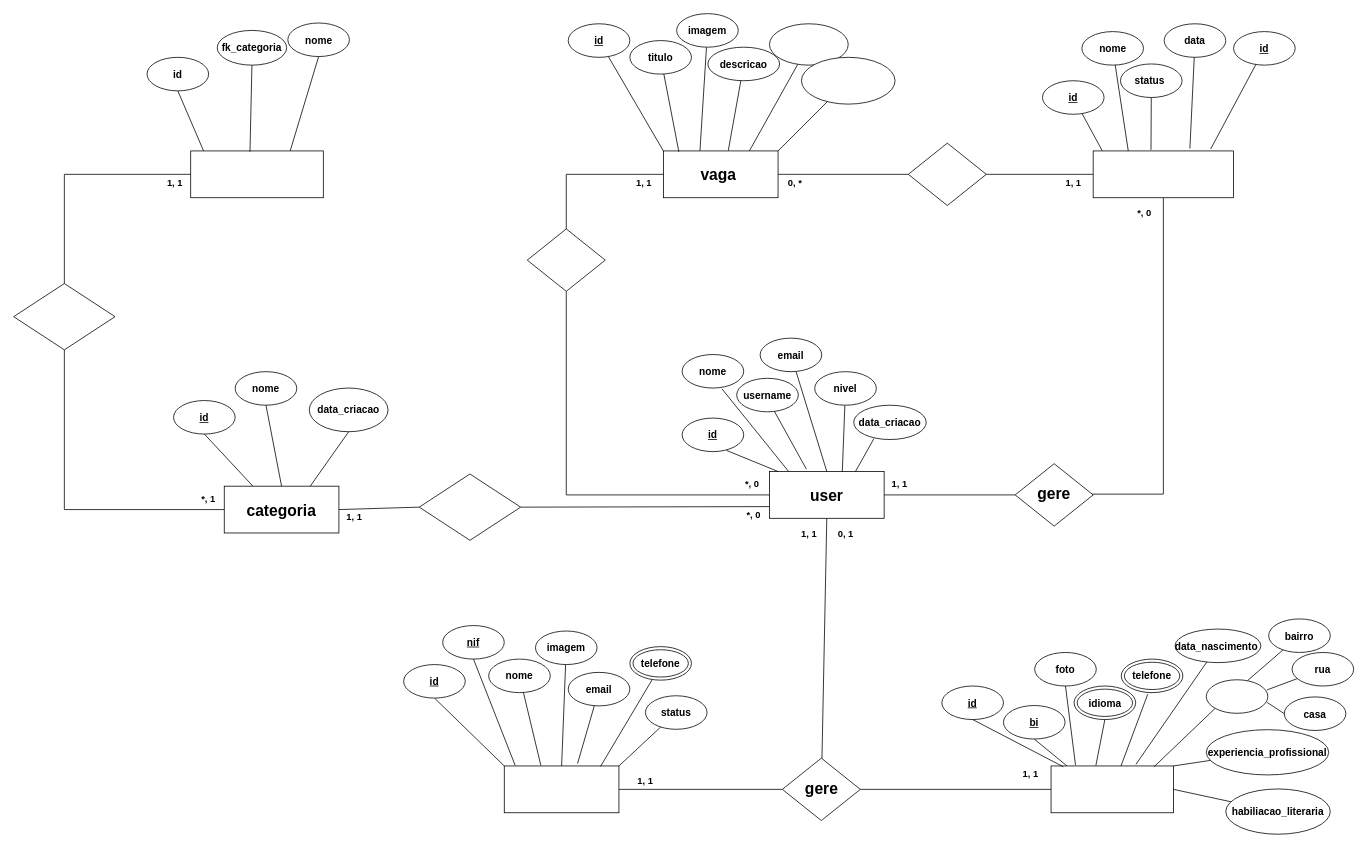
This 1367x863 diagram has some shape labels left out. Each missing label, with the box of its shape:
adiciona: (418, 473, 521, 540)
candidatura: (1092, 150, 1234, 198)
categoria_vaga: (190, 150, 323, 198)
dados_perfil: (1050, 765, 1174, 813)
data_publicacao: (769, 23, 848, 65)
data_vencimento: (801, 57, 895, 104)
empresa: (503, 765, 619, 813)
endereco: (1205, 679, 1268, 713)
possui: (13, 283, 115, 350)
publica: (526, 228, 605, 291)
tem: (908, 142, 986, 206)
